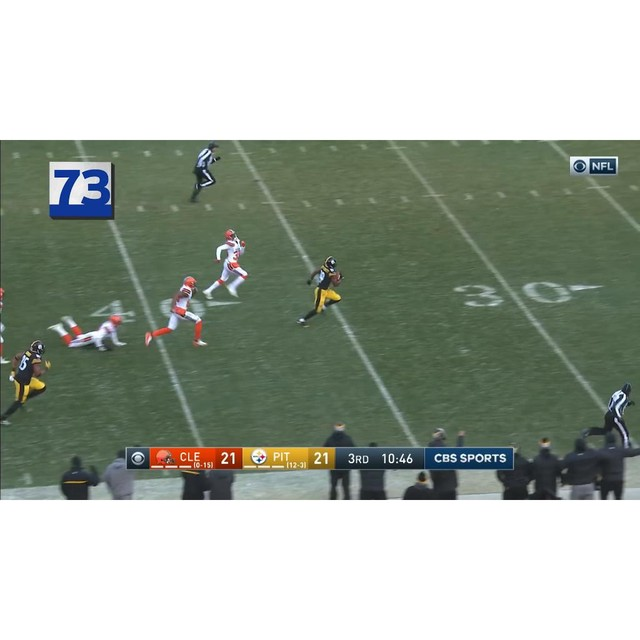american-football-player: (145, 276, 207, 349), (1, 340, 52, 425), (297, 256, 343, 327), (204, 230, 250, 300), (50, 311, 126, 351)
referee: (581, 380, 638, 448), (187, 141, 223, 204)
